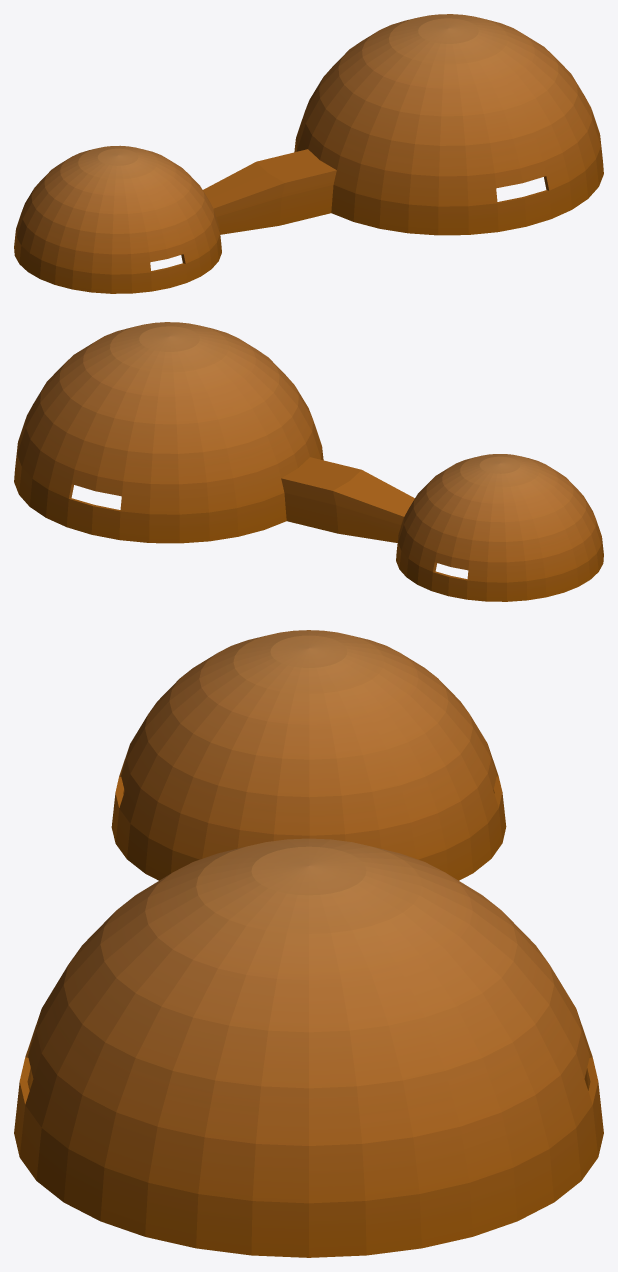
Rendered from TA-sm-domo.fbx.
3 renders of one model, top to bottom at view 1: azimuth 30°, elevation 25°; view 2: azimuth 150°, elevation 25°; view 3: azimuth 270°, elevation 25°, orthographic. The views are drawn at different scales.
Visible parts, largest first — view 1: Domo; view 2: Domo; view 3: Domo.
Boxes of the visible parts, x1,y1,x2,y2 form: Domo: (14, 14, 603, 293); Domo: (14, 322, 603, 601); Domo: (14, 630, 603, 1257).
Size of the model in its own units: 30.99 by 7.55 by 15.05.
1 material, 1 textured.
